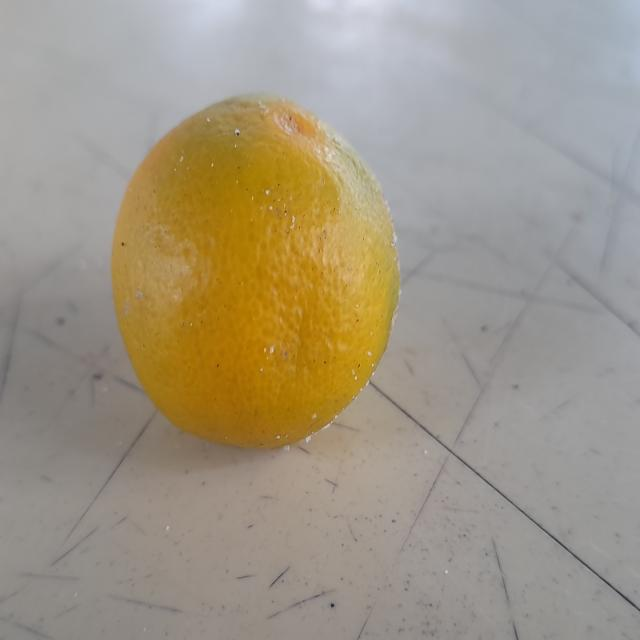greening: (107, 85, 410, 452)
